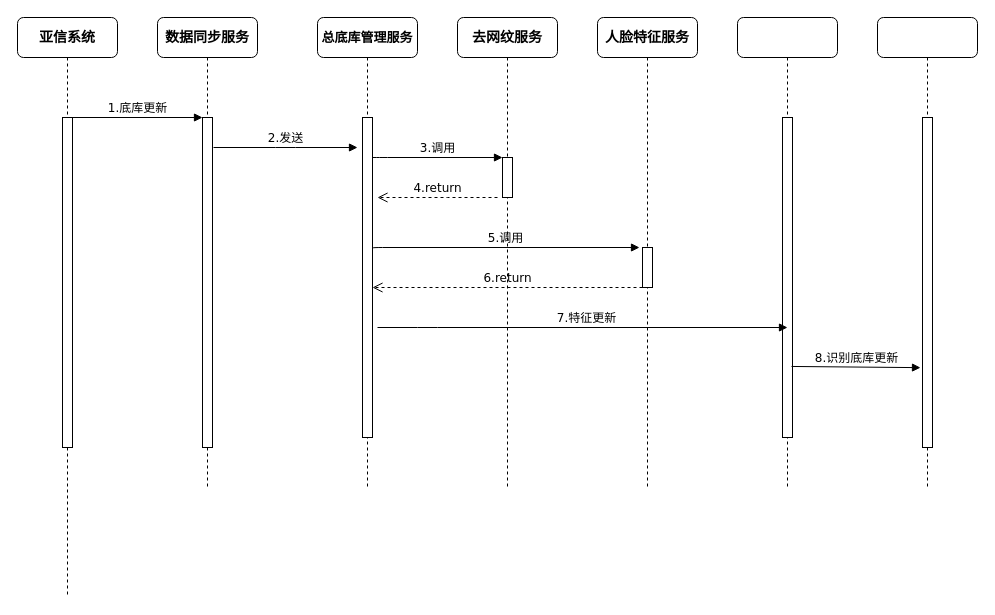
The diagram is 995 pixels wide and 615 high, and some of its shapes have lost their labels. The box of each missing label's shape, as (x1, y1, x2, y2) in pixels:
人像路由服务: (736, 16, 838, 488)
人脸识别服务: (876, 16, 978, 488)
